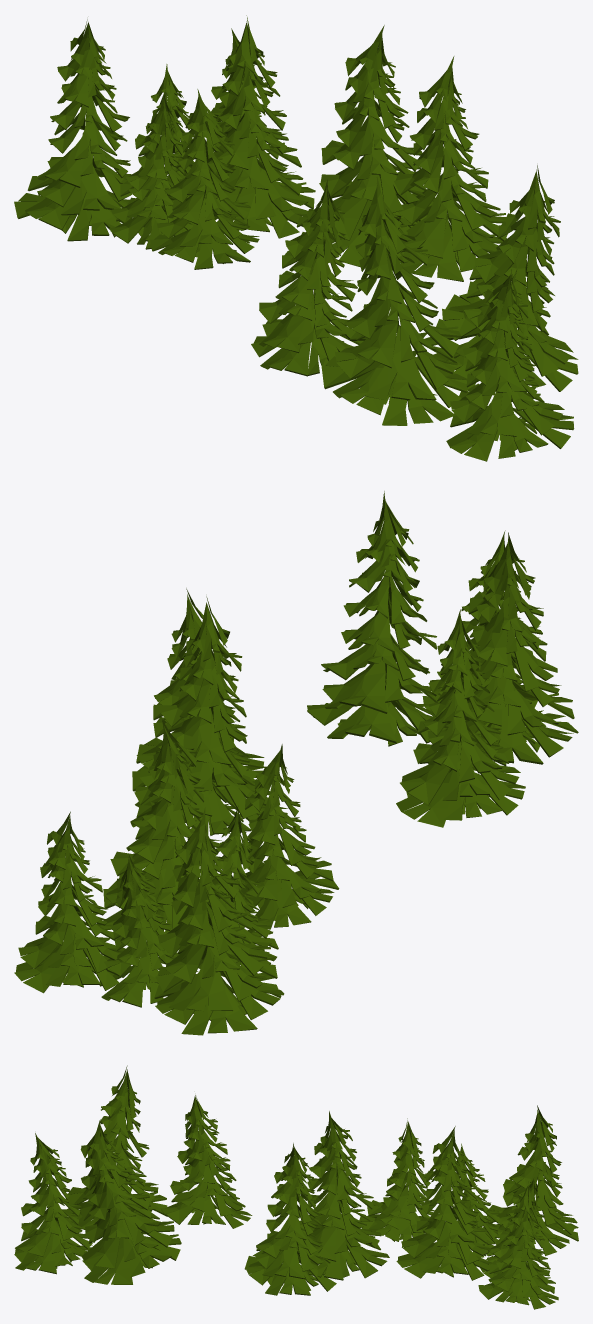
The model's file is Combined Mesh (root_ scene) 3_1.glb.
3 renders of one model, top to bottom at view 1: azimuth 30°, elevation 25°; view 2: azimuth 150°, elevation 25°; view 3: azimuth 270°, elevation 25°, orthographic. The views are drawn at different scales.
Parts seen in each view (by area): view 1: Combined Mesh (root_ scene) 3_1; view 2: Combined Mesh (root_ scene) 3_1; view 3: Combined Mesh (root_ scene) 3_1.
Part boxes in pixels (<box>): Combined Mesh (root_ scene) 3_1: <box>14,15,578,461</box>; Combined Mesh (root_ scene) 3_1: <box>14,491,578,1035</box>; Combined Mesh (root_ scene) 3_1: <box>14,1065,578,1309</box>.
Size of the model in its own units: 9.8 by 8.36 by 22.17.
1 material, 1 textured.
